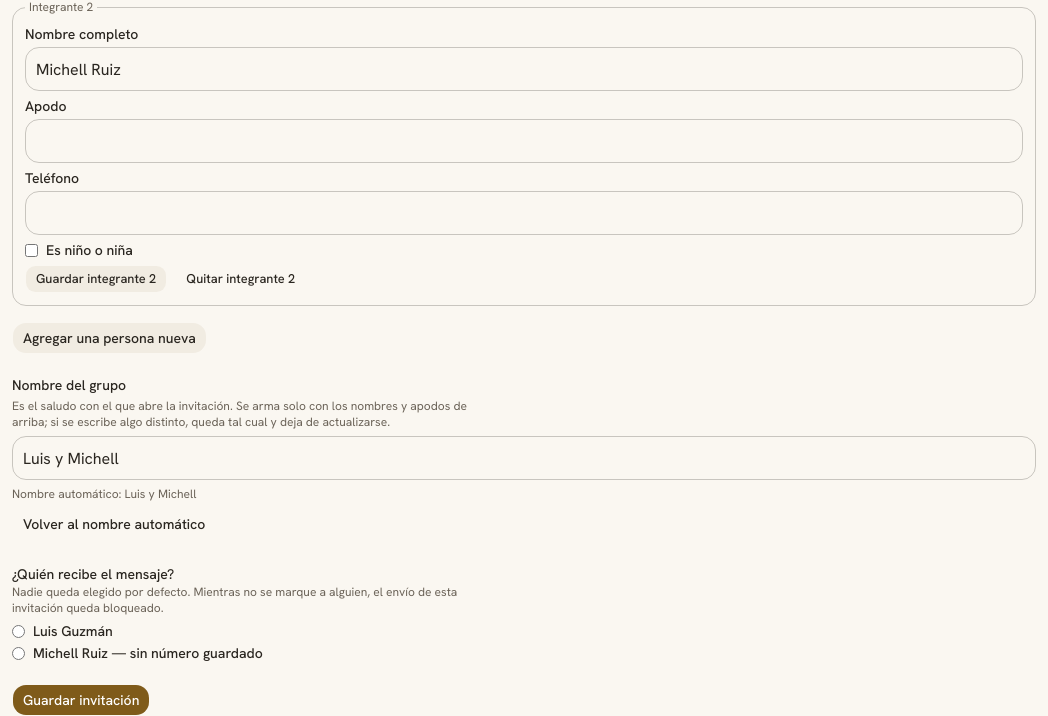
Test: InvitationForm's refusals, checked before the round trip › refuses a save whose chosen recipient is no longer a member
(page scrolled)
Click the button "Guardar invitación". click: (81, 700)
box: [12,684,150,715]
(page scrolled)
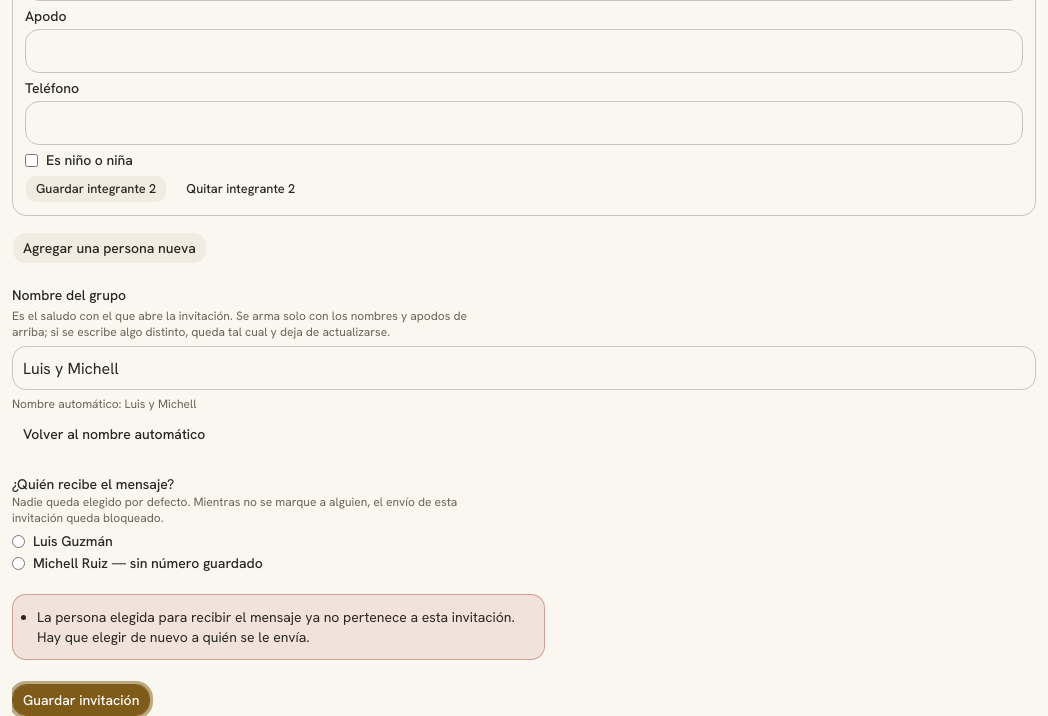
Expected: the message with test id "invitation-refusals" shows "ya no pertenece a esta invitación", [37,608,515,646]
